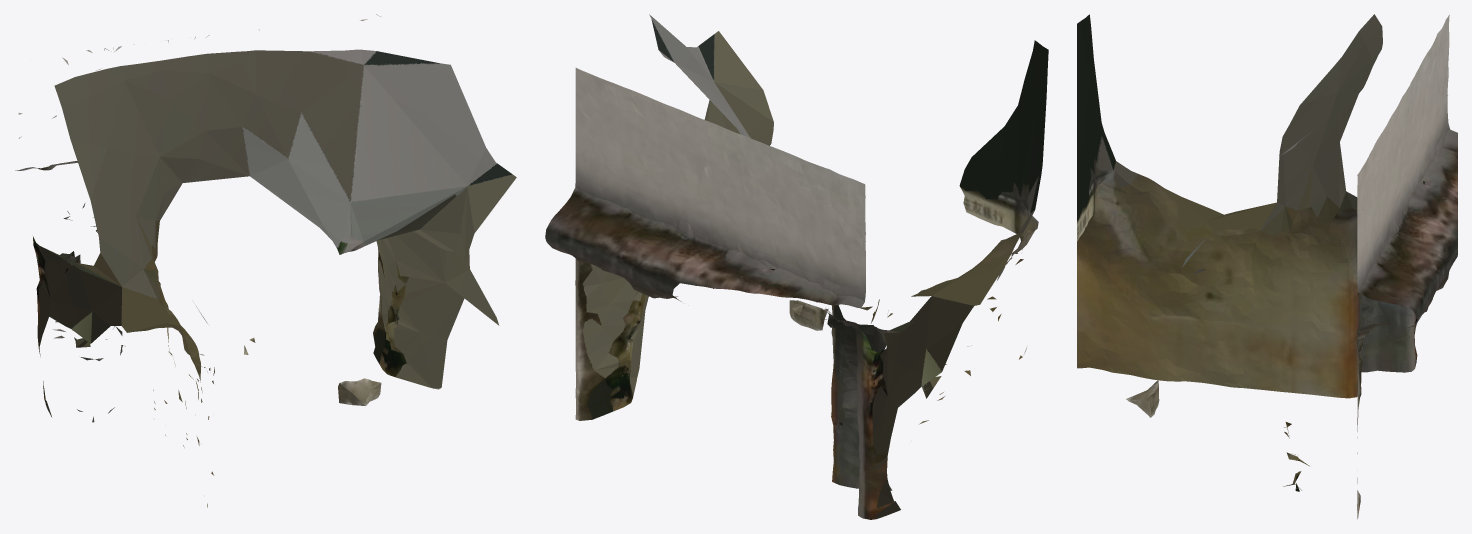
The picture shows the model from 3 angles, left to right: view 1: azimuth 30°, elevation 25°; view 2: azimuth 150°, elevation 25°; view 3: azimuth 270°, elevation 25°; orthographic projection. The views are drawn at different scales.
Size of the model in its own units: 1.97 by 1.97 by 1.97.
1 material, 1 textured.
